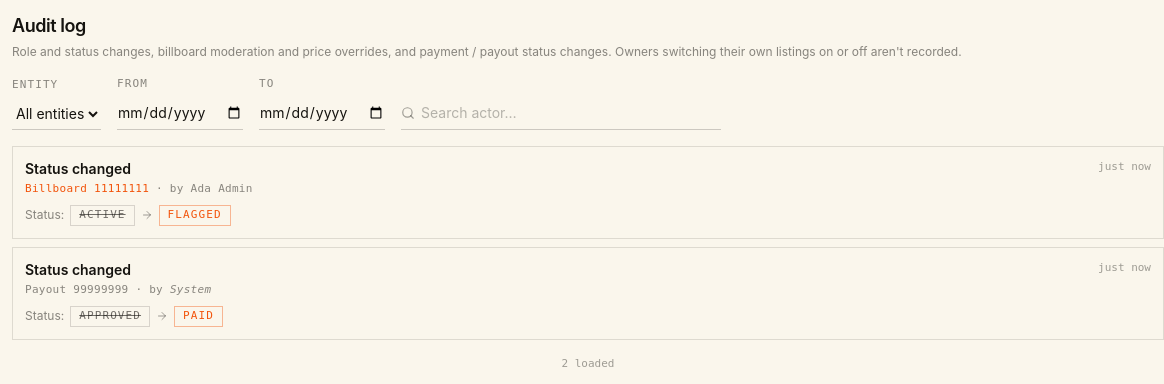
AuditLogPanel › lists entries with actor, entity link and before → after
Expected: the text "Ada Admin" is shown, left=191, top=182, right=253, bottom=194
Expected: the text "System" is shown, left=170, top=283, right=211, bottom=296
Type "ada" into the search field named "Search by actor" at (561, 113), box left=401, top=96, right=721, bottom=130
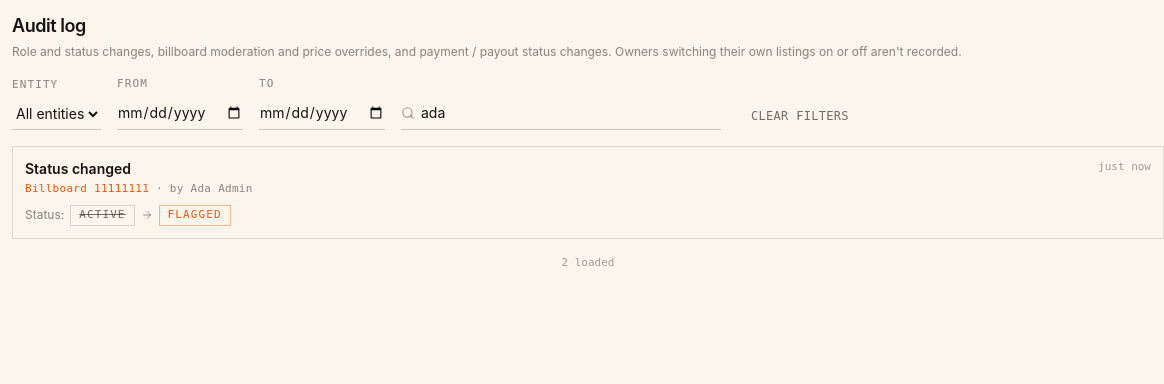
Expected: the text "System" is gone
